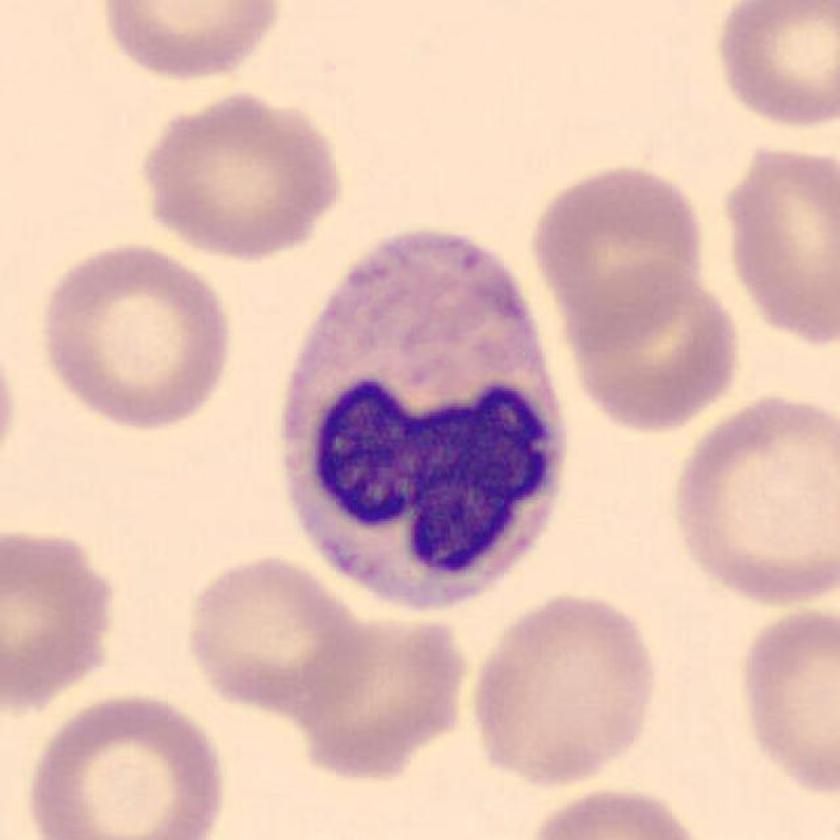neutrophil: (283, 231, 567, 609)
